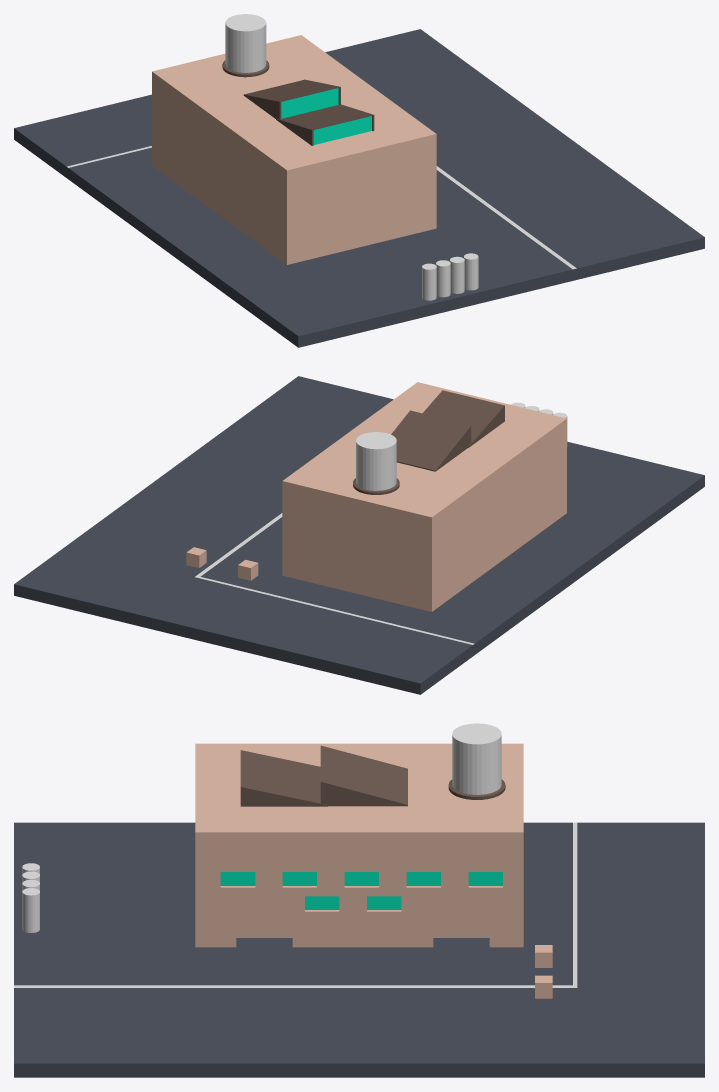
The model's file is Transporter.glb.
3 views of the same model, one above another, from view 1: azimuth 30°, elevation 25°; view 2: azimuth 150°, elevation 25°; view 3: azimuth 270°, elevation 25° (orthographic). The views are drawn at different scales.
Parts seen in each view (by area): view 1: Transporter; view 2: Transporter; view 3: Transporter.
Boxes of the visible parts, x1,y1,x2,y2 form: Transporter: (14, 14, 704, 347); Transporter: (14, 376, 704, 694); Transporter: (14, 723, 704, 1077).
Size of the model in its own units: 8.99 by 3.21 by 10.9.
